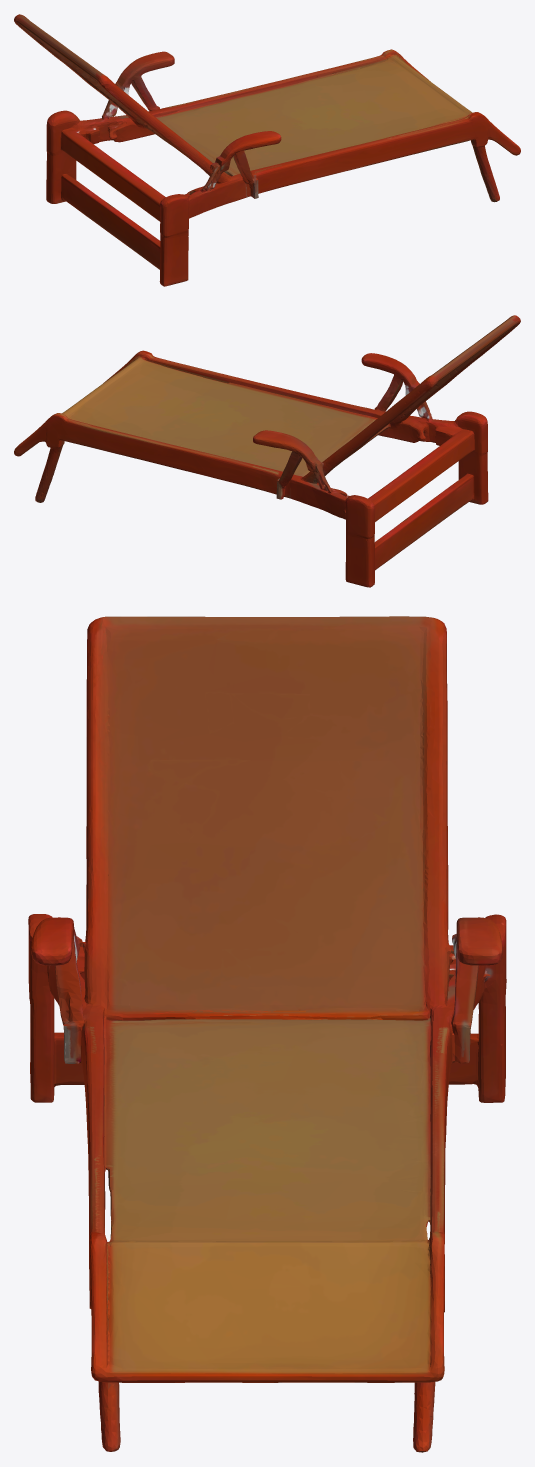
Rendered from lounge_chair_26.obj.
3 views of the same model, one above another, from view 1: azimuth 30°, elevation 25°; view 2: azimuth 150°, elevation 25°; view 3: azimuth 270°, elevation 25° (orthographic). The views are drawn at different scales.
Bounding box in the file's own units: 1.77 × 0.9 × 0.8691.
Materials: 1 (1 with a texture image).
